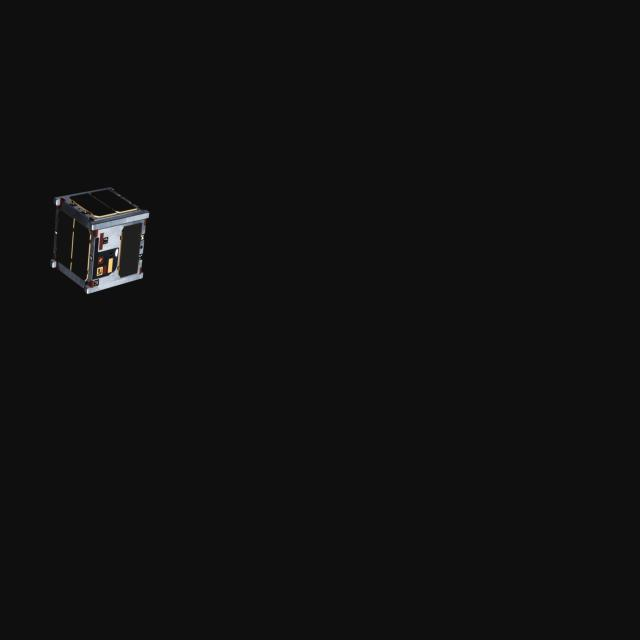medium_debris: (40, 186, 154, 305)
